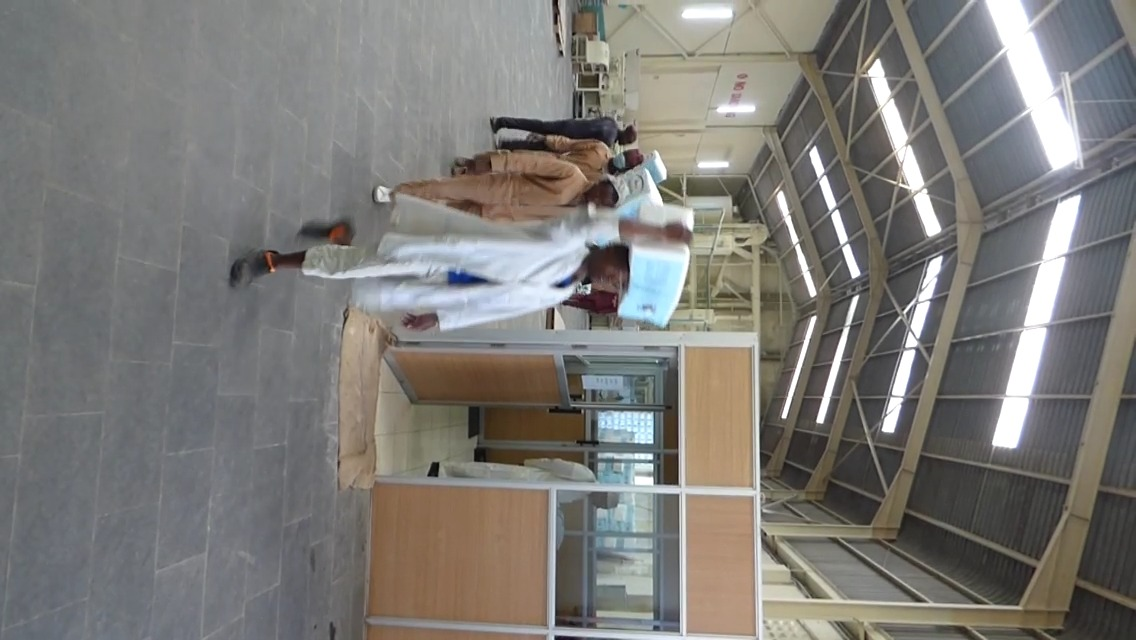wheat_flour_blue_label: (628, 197, 693, 324)
